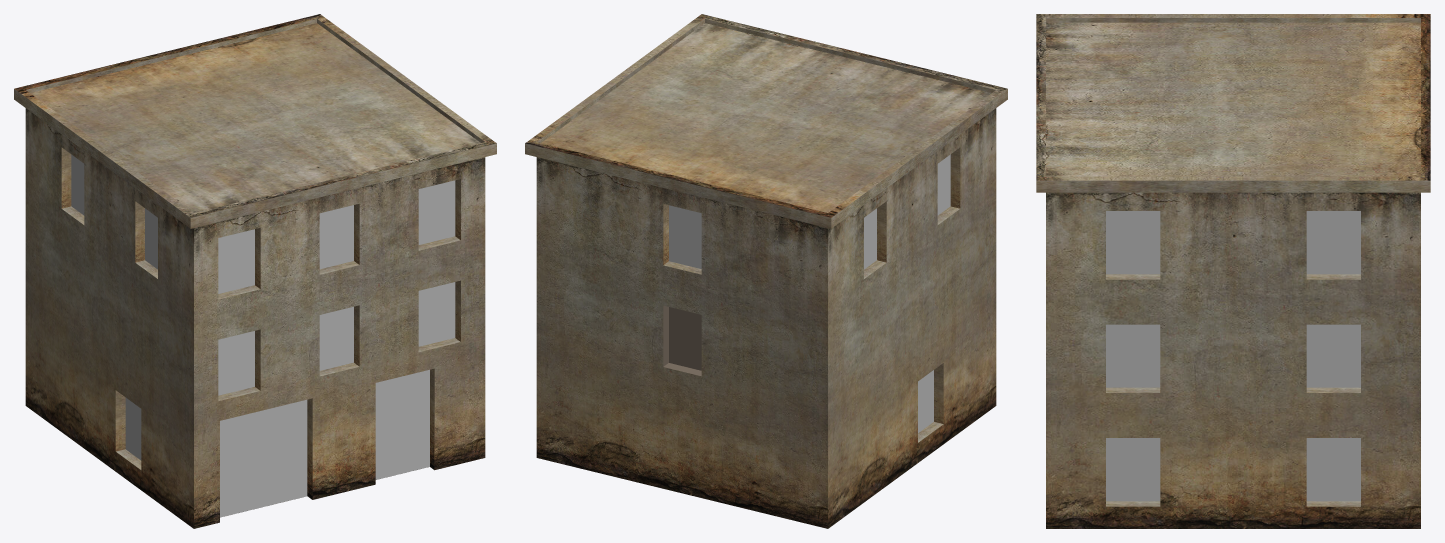
Rendered from BuildingJ_Parts.fbx.
3 views of the same model, side by side, from view 1: azimuth 30°, elevation 25°; view 2: azimuth 150°, elevation 25°; view 3: azimuth 270°, elevation 25° (orthographic). The views are drawn at different scales.
Visible parts, largest first — view 1: BuildingJ_Floor3_Roof, BuildingJ_Floor2, BuildingJ_Floor3, BuildingJ_Floor1, BuildingJ_Floor1_Door1, BuildingJ_Floor1_Door2, BuildingJ_Floor2_Window1, BuildingJ_Floor2_Window3, BuildingJ_Floor3_Window3, BuildingJ_Floor3_Window1, BuildingJ_Floor2_Window2, BuildingJ_Floor3_Window2 (+3 smaller); view 2: BuildingJ_Floor3_Roof, BuildingJ_Floor1, BuildingJ_Floor2, BuildingJ_Floor3, BuildingJ_Floor3_Window6, BuildingJ_Floor2_Window6, BuildingJ_Floor1_Window1, BuildingJ_Floor3_Window8, BuildingJ_Floor3_Window7; view 3: BuildingJ_Floor3_Roof, BuildingJ_Floor1, BuildingJ_Floor2, BuildingJ_Floor3, BuildingJ_Floor2_Window5, BuildingJ_Floor1_Window2, BuildingJ_Floor1_Window3, BuildingJ_Floor2_Window4, BuildingJ_Floor3_Window4, BuildingJ_Floor3_Window5.
Boxes of the visible parts, bbox=[...] form: BuildingJ_Floor3_Roof: bbox=[14, 14, 496, 228]; BuildingJ_Floor2: bbox=[25, 203, 485, 426]; BuildingJ_Floor3: bbox=[25, 108, 485, 325]; BuildingJ_Floor1: bbox=[25, 304, 485, 528]; BuildingJ_Floor1_Door1: bbox=[219, 398, 312, 521]; BuildingJ_Floor1_Door2: bbox=[375, 368, 434, 479]; BuildingJ_Floor2_Window1: bbox=[218, 329, 260, 401]; BuildingJ_Floor2_Window3: bbox=[418, 280, 460, 351]; BuildingJ_Floor3_Window3: bbox=[418, 179, 460, 250]; BuildingJ_Floor3_Window1: bbox=[218, 228, 260, 299]; BuildingJ_Floor2_Window2: bbox=[319, 305, 359, 376]; BuildingJ_Floor3_Window2: bbox=[319, 203, 359, 274]; BuildingJ_Floor3_Roof: bbox=[525, 14, 1007, 228]; BuildingJ_Floor1: bbox=[536, 304, 996, 528]; BuildingJ_Floor2: bbox=[536, 203, 996, 426]; BuildingJ_Floor3: bbox=[536, 108, 996, 325]; BuildingJ_Floor3_Window6: bbox=[663, 204, 701, 274]; BuildingJ_Floor2_Window6: bbox=[663, 305, 701, 376]; BuildingJ_Floor1_Window1: bbox=[918, 363, 943, 442]; BuildingJ_Floor3_Window8: bbox=[937, 147, 960, 224]; BuildingJ_Floor3_Window7: bbox=[864, 201, 886, 278]; BuildingJ_Floor3_Roof: bbox=[1036, 14, 1430, 192]; BuildingJ_Floor1: bbox=[1046, 415, 1420, 528]; BuildingJ_Floor2: bbox=[1046, 302, 1420, 415]; BuildingJ_Floor3: bbox=[1046, 192, 1420, 301]; BuildingJ_Floor2_Window5: bbox=[1306, 324, 1360, 393]; BuildingJ_Floor1_Window2: bbox=[1106, 438, 1160, 506]; BuildingJ_Floor1_Window3: bbox=[1306, 438, 1360, 506]; BuildingJ_Floor2_Window4: bbox=[1106, 324, 1160, 392]; BuildingJ_Floor3_Window4: bbox=[1106, 211, 1160, 279]; BuildingJ_Floor3_Window5: bbox=[1306, 211, 1360, 279].
Bounding box in the file's own units: 752 × 752 × 742.
